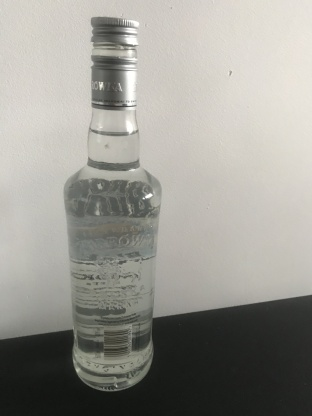nakretka: (88, 14, 141, 110)
